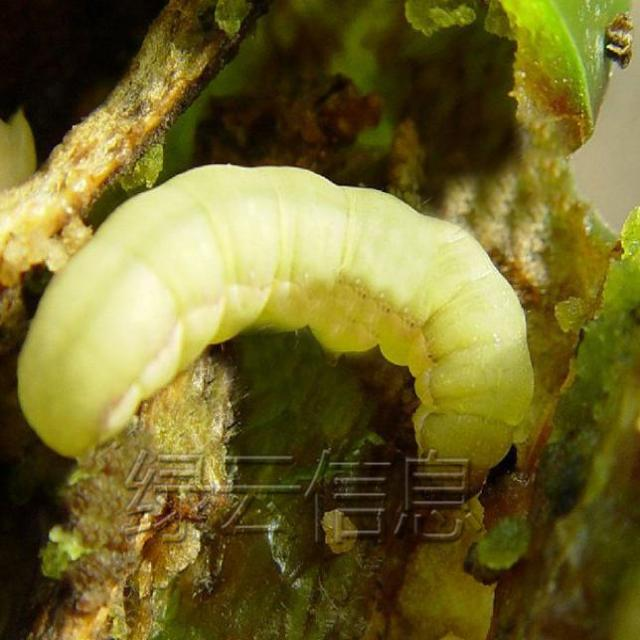BeetArmyWorm-Larva-: (10, 158, 538, 508)
